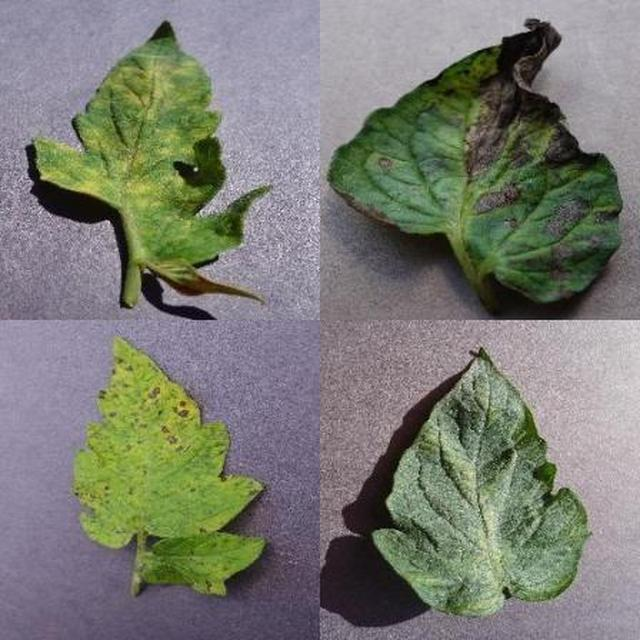Leaf Mold: (219, 202, 640, 640)
